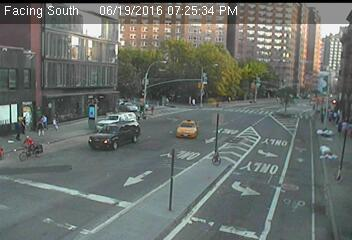neg: (14, 133, 43, 171)
pos: (9, 119, 25, 140)
